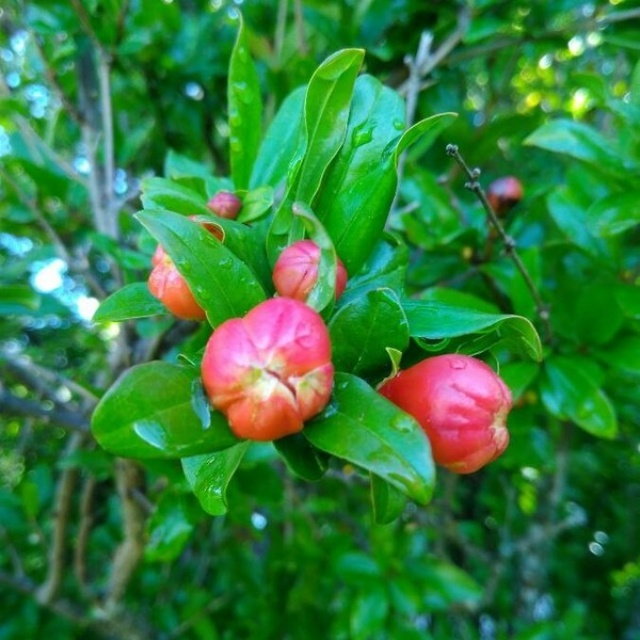obstacle: (139, 37, 554, 534)
